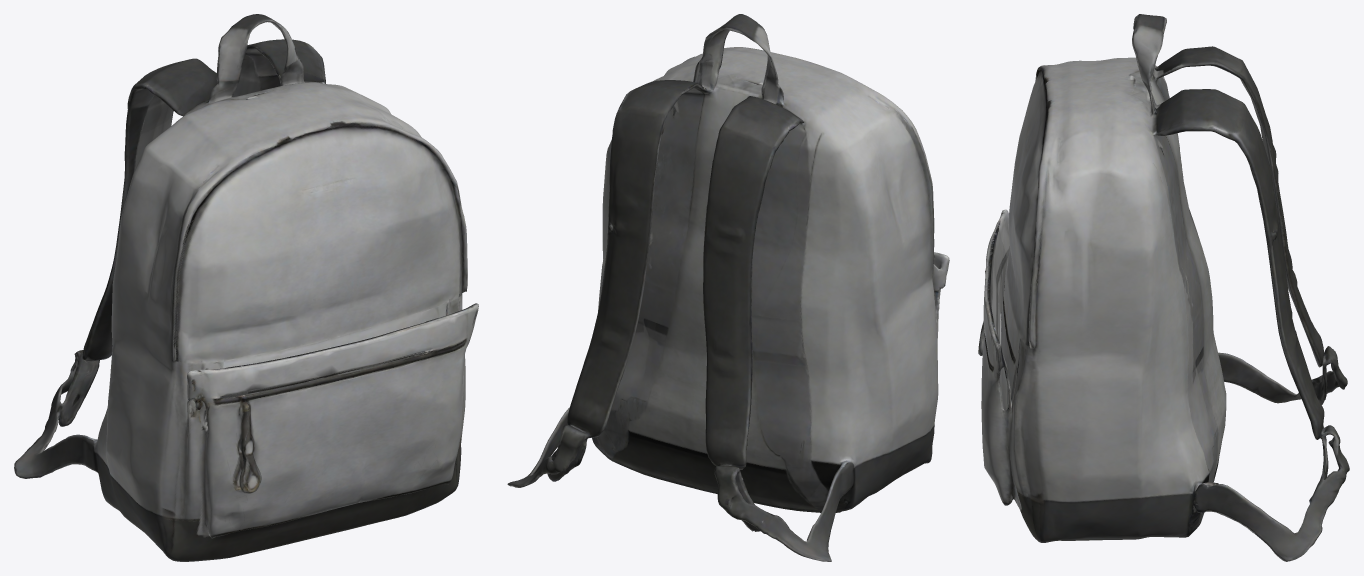
File: Gray_Backpack__1118200637.fbx
The picture shows the model from 3 angles, left to right: view 1: azimuth 30°, elevation 25°; view 2: azimuth 150°, elevation 25°; view 3: azimuth 270°, elevation 25°; orthographic projection. The views are drawn at different scales.
Visible parts, largest first — view 1: Mesh_0; view 2: Mesh_0; view 3: Mesh_0.
Boxes of the visible parts, x1,y1,x2,y2 form: Mesh_0: (14,14,478,561); Mesh_0: (507,14,949,561); Mesh_0: (978,14,1349,561).
Size of the model in its own units: 145 by 200 by 141.
1 material, 1 textured.
